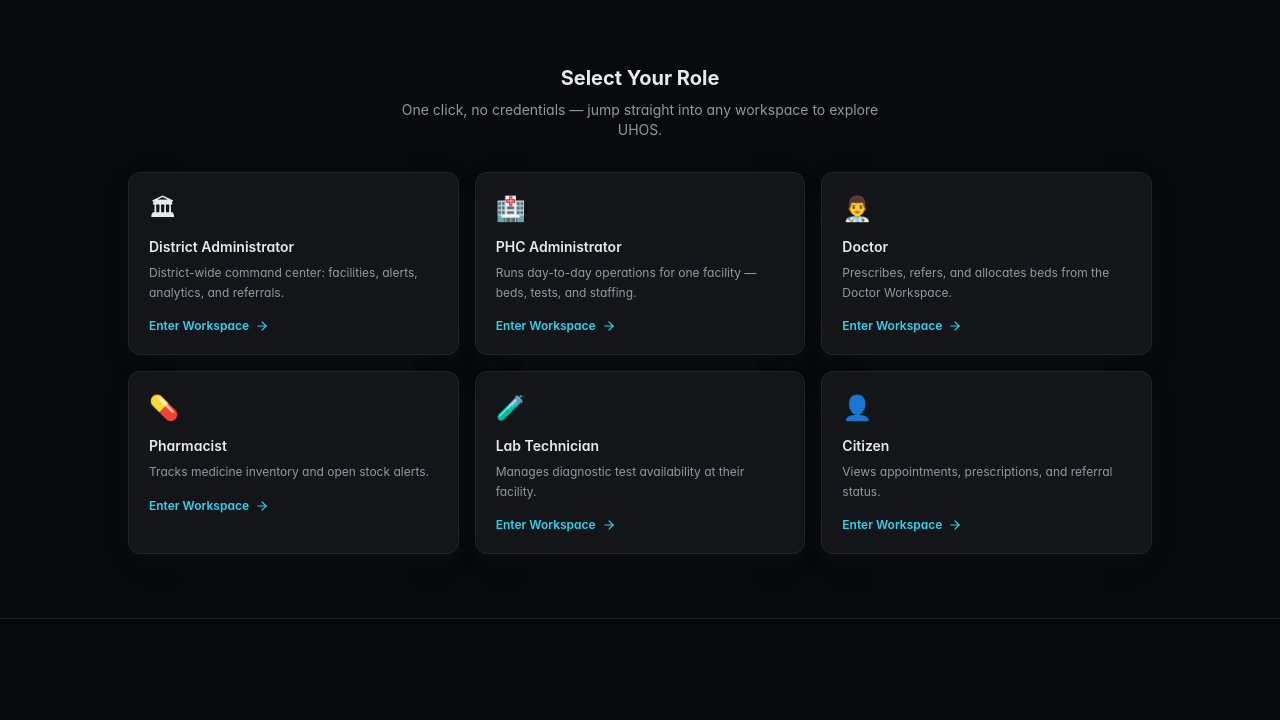
Test: Demo Mode — role selection cards › shows an error if the backend has Demo Mode disabled (403)
This screenshot has width=1280, height=720.
Click the button "Citizen" at (987, 462), box top-left (821, 371), bottom-right (1152, 554)
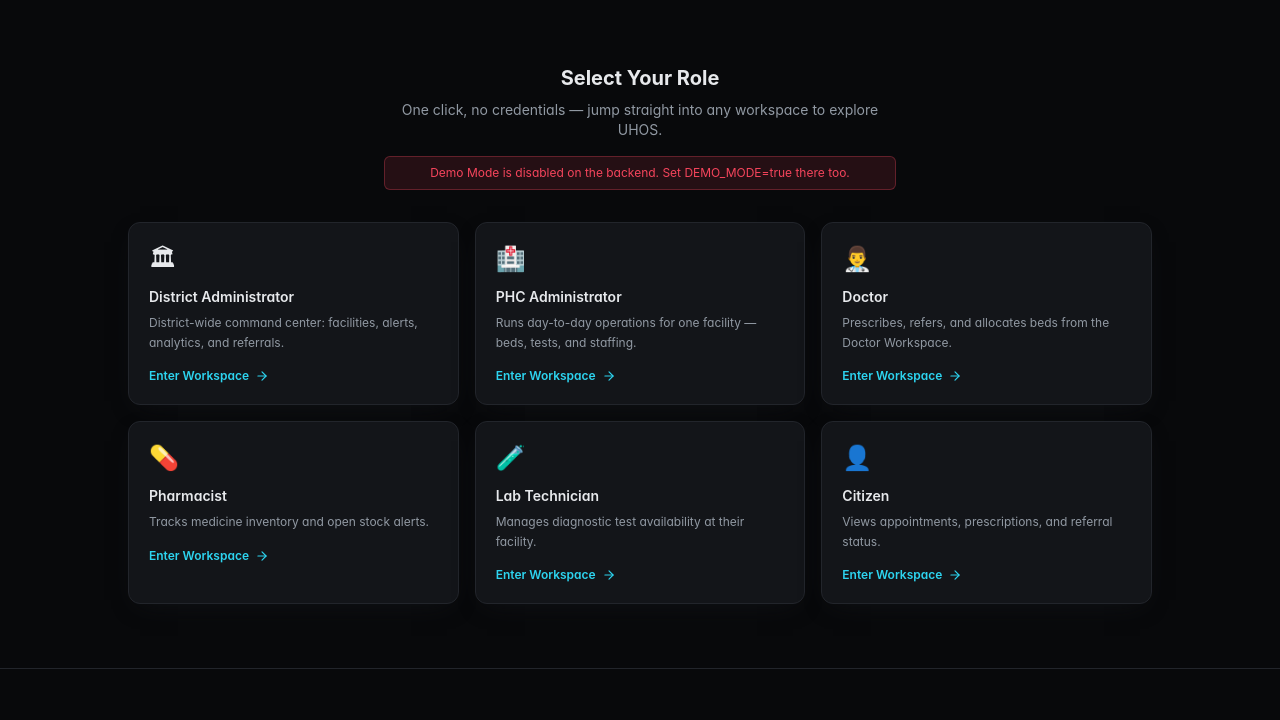
Check: the message shows "Demo Mode is disabled on the backend", box top-left (430, 165), bottom-right (850, 180)
